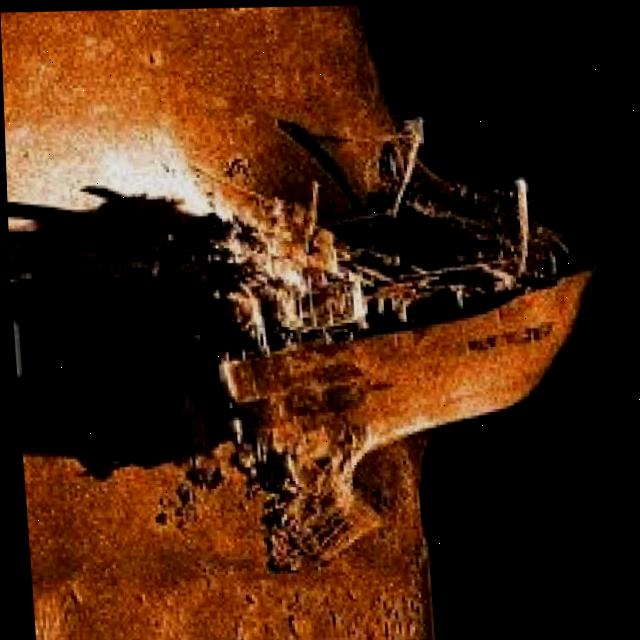shipwreck: (179, 108, 617, 548)
